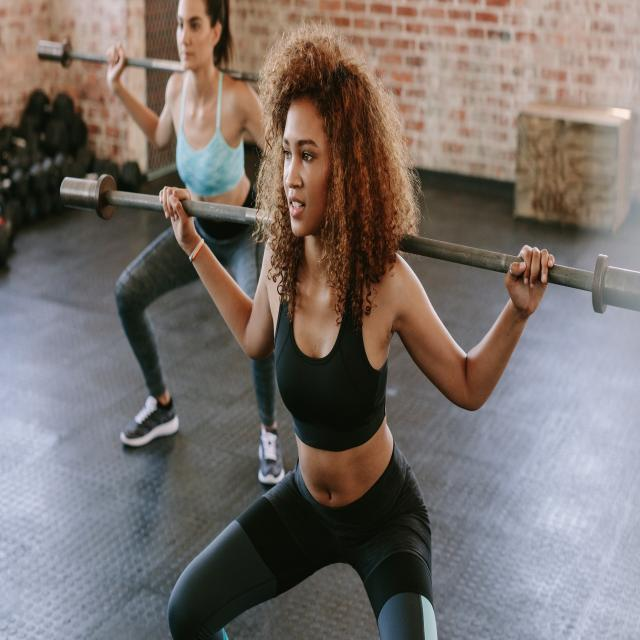adult: (159, 23, 555, 640), (107, 1, 287, 486)
